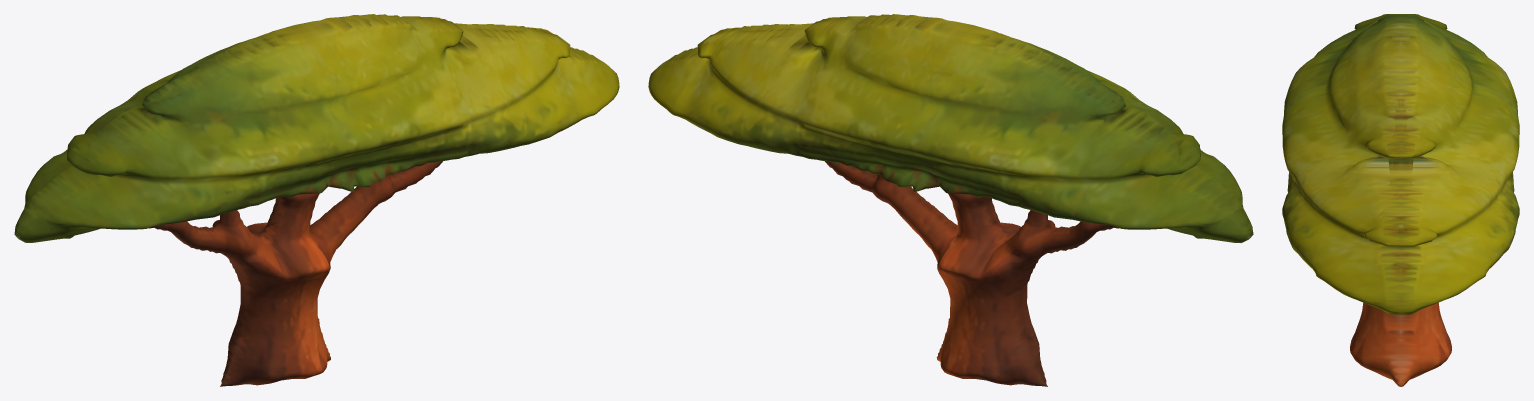
File: 02_acacia_trees_r01_c00.glb
3 renders of one model, left to right at view 1: azimuth 30°, elevation 25°; view 2: azimuth 150°, elevation 25°; view 3: azimuth 270°, elevation 25°, orthographic. The views are drawn at different scales.
Parts seen in each view (by area): view 1: 02_acacia_trees_r01_c00; view 2: 02_acacia_trees_r01_c00; view 3: 02_acacia_trees_r01_c00.
Boxes of the visible parts, x1,y1,x2,y2 form: 02_acacia_trees_r01_c00: (14, 14, 619, 386); 02_acacia_trees_r01_c00: (648, 14, 1253, 386); 02_acacia_trees_r01_c00: (1282, 14, 1519, 386).
Size of the model in its own units: 4.38 by 2.36 by 1.57.
1 material, 1 textured.
